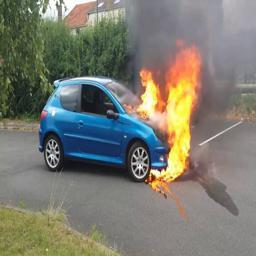fire: (139, 38, 204, 182)
